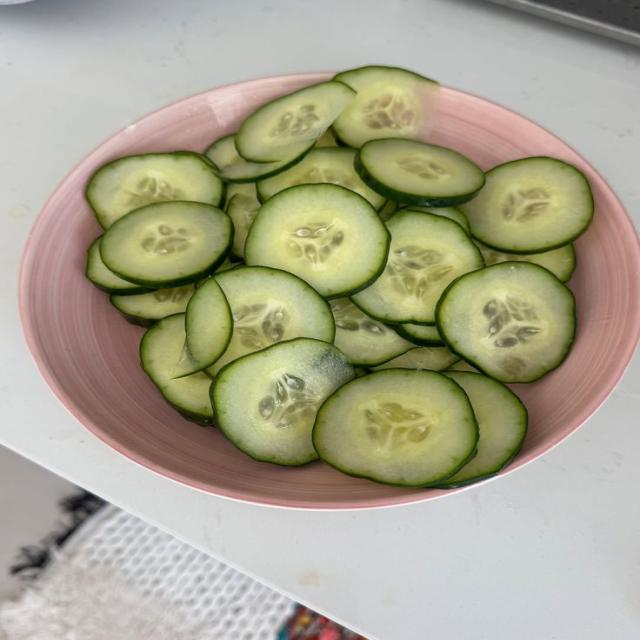cucumber sliced: (314, 370, 478, 486), (212, 338, 354, 465), (437, 262, 575, 382), (245, 184, 389, 297), (352, 210, 484, 323), (207, 267, 334, 376), (463, 157, 593, 254), (100, 202, 233, 288), (86, 152, 223, 228), (440, 372, 527, 487), (235, 81, 355, 161), (355, 139, 485, 206), (333, 66, 438, 147), (140, 314, 212, 424), (257, 148, 385, 209), (174, 278, 233, 377), (331, 299, 413, 367), (206, 135, 310, 184), (475, 241, 576, 281), (87, 236, 148, 295), (111, 285, 194, 326), (219, 148, 310, 183), (227, 189, 259, 258), (373, 347, 459, 371), (403, 206, 470, 234), (195, 256, 244, 288), (205, 135, 244, 170), (394, 324, 443, 346), (224, 183, 257, 210), (446, 360, 479, 373), (379, 200, 398, 221), (315, 129, 337, 147)
